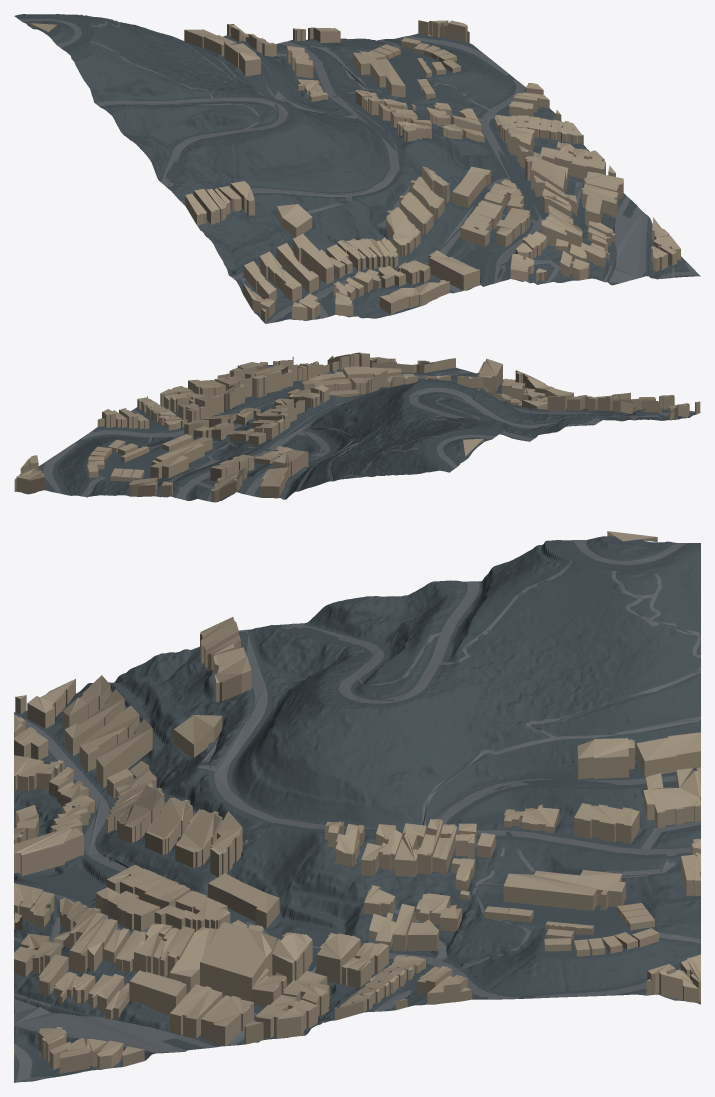
The model's file is epsg26910-1429-10882.lod0.glb.
The picture shows the model from 3 angles, top to bottom: view 1: azimuth 30°, elevation 25°; view 2: azimuth 150°, elevation 25°; view 3: azimuth 270°, elevation 25°; orthographic projection. The views are drawn at different scales.
Parts seen in each view (by area): view 1: epsg26910-1429-10882-lod0; view 2: epsg26910-1429-10882-lod0; view 3: epsg26910-1429-10882-lod0.
Part boxes in pixels (x1=…): epsg26910-1429-10882-lod0: x1=14, y1=14, x2=700, y2=323; epsg26910-1429-10882-lod0: x1=14, y1=352, x2=700, y2=502; epsg26910-1429-10882-lod0: x1=14, y1=531, x2=700, y2=1082.
Bounding box in the file's own units: 384 × 161 × 384.
